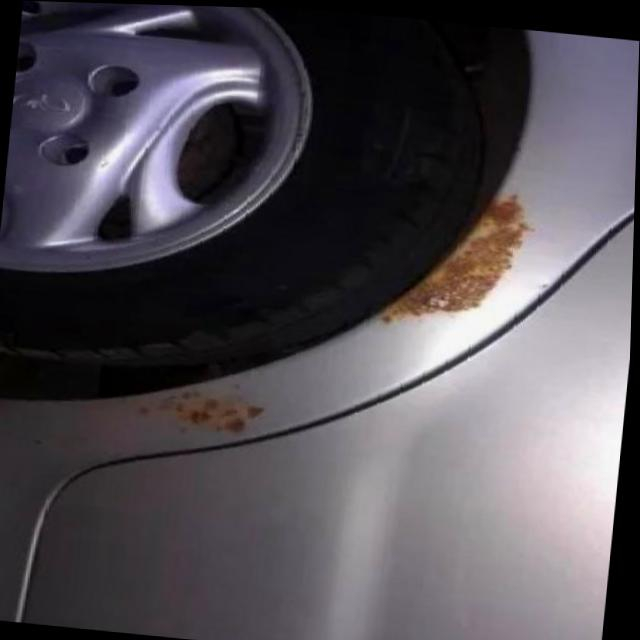Rust: (374, 183, 535, 326), (127, 383, 270, 437)
